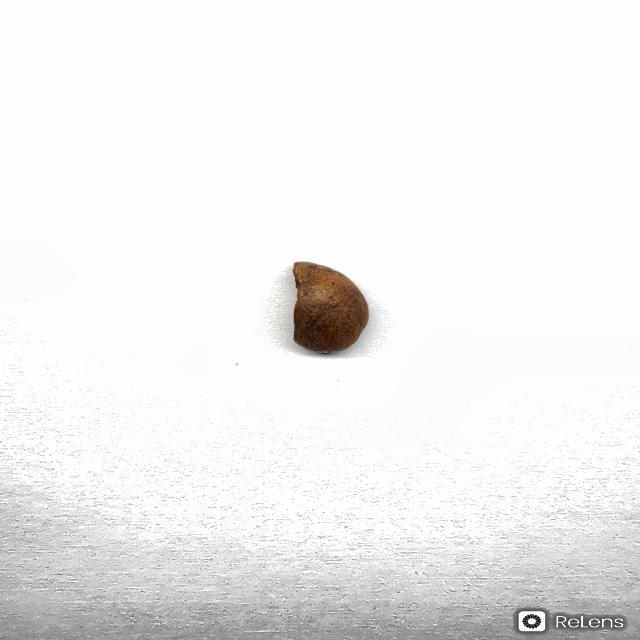Broken: (291, 260, 370, 353)
